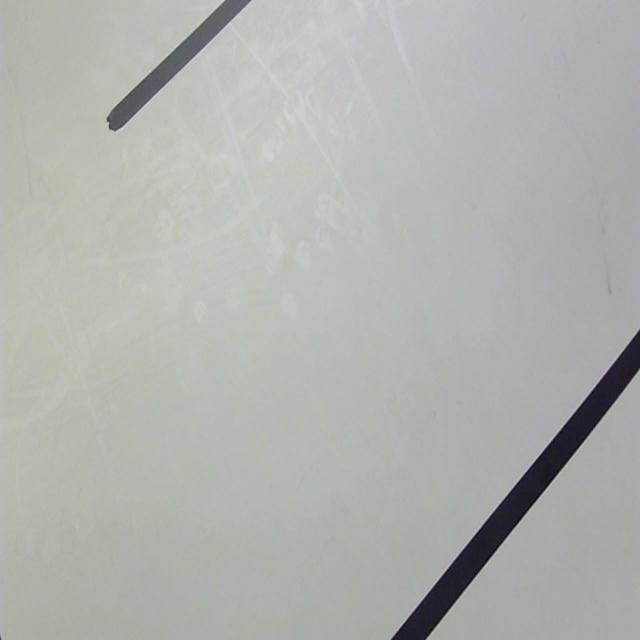tape: (381, 306, 640, 640), (92, 0, 262, 158)
